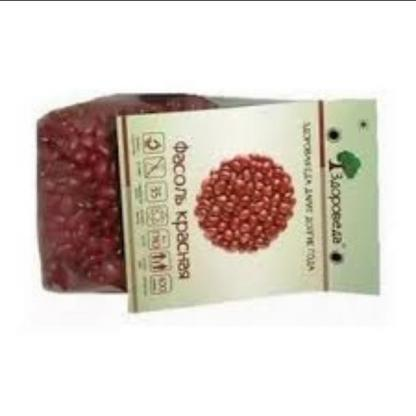fasol: (36, 83, 227, 303), (195, 154, 300, 258)
